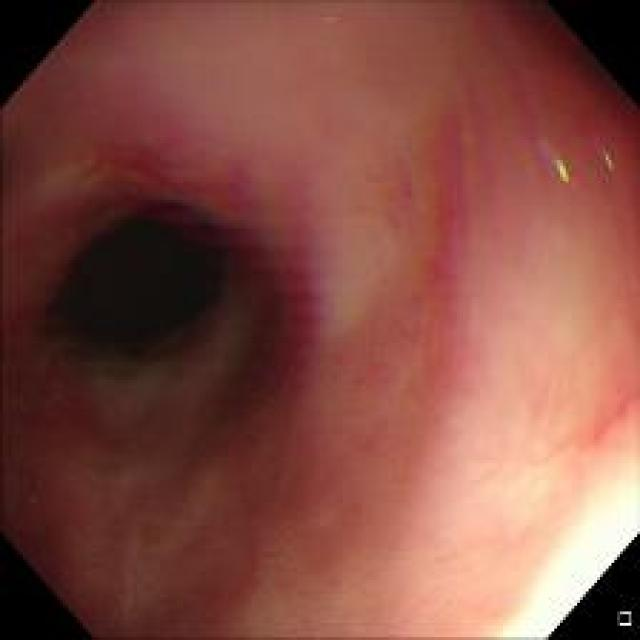color misalignment: (99, 125, 341, 424), (399, 74, 489, 385), (512, 59, 572, 198), (581, 122, 622, 178)
contrast: (36, 194, 240, 376)
saturation: (498, 499, 632, 635)
